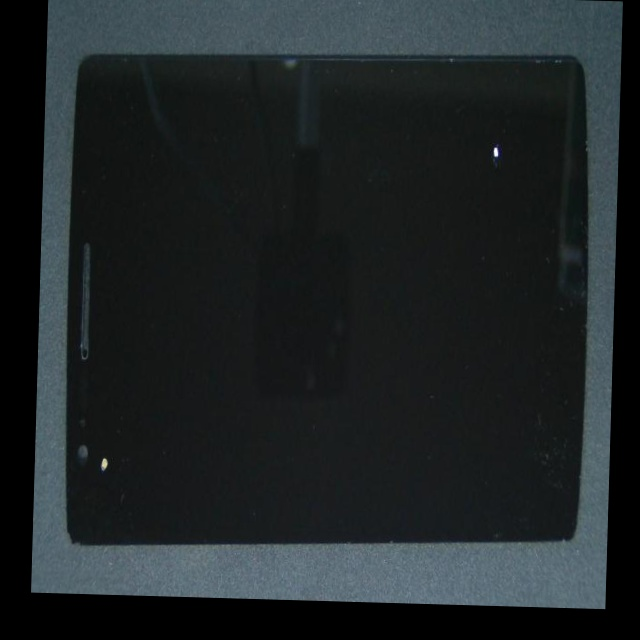stain: (296, 58, 621, 198), (49, 276, 144, 596)
